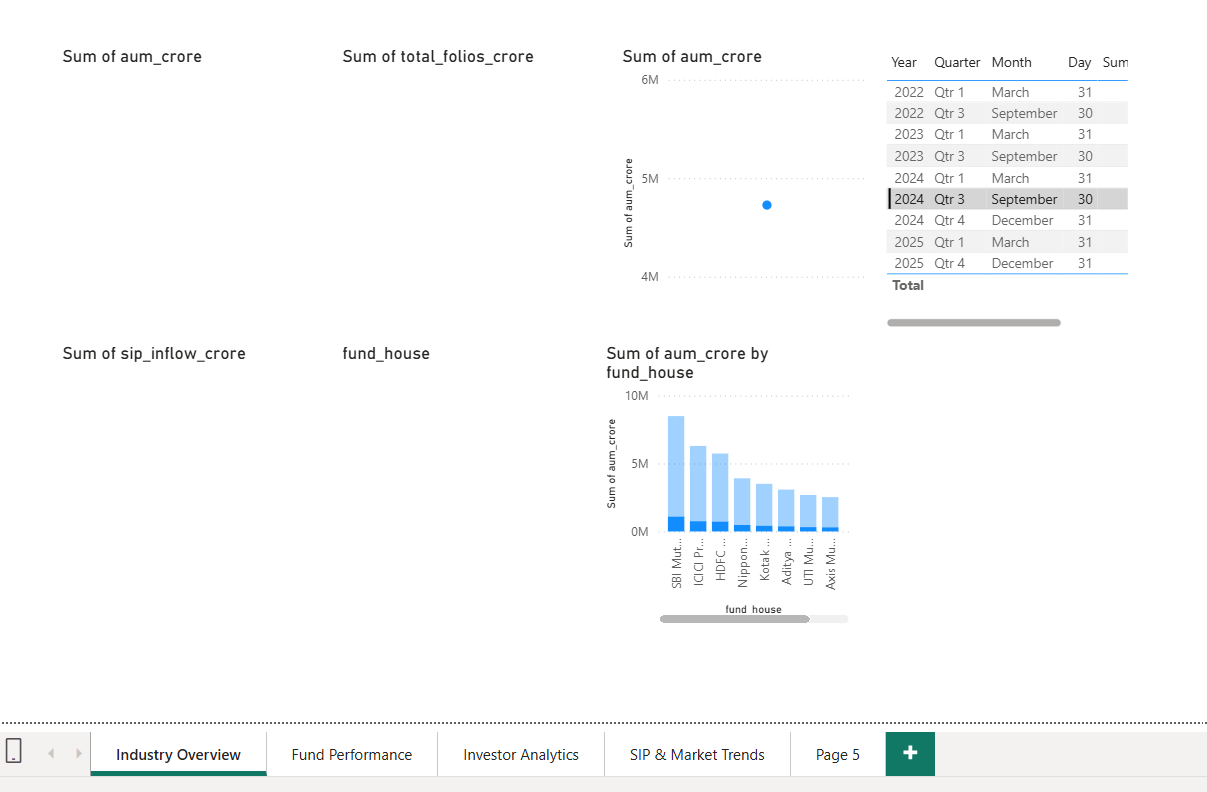

What the dashboard file says about the page in this screenshot:
{"tool":"powerbi","page":{"name":"Industry Overview","canvas":[1280,720],"ordinal":0},"visuals":[{"type":"kpi","fields":{"Indicator":["Sum(03_aum_by_fund_house.aum_crore)"]},"box":[90.6,59,247,279.9],"z":0},{"type":"kpi","fields":{"Indicator":["Sum(04_monthly_sip_inflows.sip_inflow_crore)"]},"box":[91,349,247,280],"z":1},{"type":"kpi","fields":{"Indicator":["Sum(06_industry_folio_count.total_folios_crore)"]},"box":[364.5,59,247,280],"z":2},{"type":"kpi","fields":{"TrendLine":["01_fund_master.fund_house"]},"box":[365,349,247,280],"z":3},{"type":"lineChart","fields":{"Y":["Sum(03_aum_by_fund_house.aum_crore)"]},"box":[638.5,59,247,280],"z":4},{"type":"barChart","fields":{"Category":["03_aum_by_fund_house.fund_house"]},"box":[639,349,247,280],"z":5},{"type":"clusteredColumnChart","fields":{"Y":["Sum(03_aum_by_fund_house.aum_crore)"],"Category":["03_aum_by_fund_house.fund_house"]},"box":[622,349,247,280],"z":6},{"type":"tableEx","fields":{"Values":["03_aum_by_fund_house.date.Variation.Date Hierarchy.Year","03_aum_by_fund_house.date.Variation.Date Hierarchy.Quarter","03_aum_by_fund_house.date.Variation.Date Hierarchy.Month","03_aum_by_fund_house.date.Variation.Date Hierarchy.Day","Sum(03_aum_by_fund_house.aum_crore)"]},"box":[895.5,59,247,280],"z":7}]}

Visuals, with their boxes on the page's 1280x720 design canvas (x1, y1, x2, y2). These are canvas units, not pixel positions in the 1207x792 screenshot, which may show the page scaled, cropped or inside an application window:
kpi - Sum(03_aum_by_fund_house.aum_crore): left=91, top=59, right=338, bottom=339
kpi - Sum(04_monthly_sip_inflows.sip_inflow_crore): left=91, top=349, right=338, bottom=629
kpi - Sum(06_industry_folio_count.total_folios_crore): left=364, top=59, right=612, bottom=339
kpi - 01_fund_master.fund_house: left=365, top=349, right=612, bottom=629
lineChart - Sum(03_aum_by_fund_house.aum_crore): left=638, top=59, right=886, bottom=339
barChart - 03_aum_by_fund_house.fund_house: left=639, top=349, right=886, bottom=629
clusteredColumnChart - Sum(03_aum_by_fund_house.aum_crore) x 03_aum_by_fund_house.fund_house: left=622, top=349, right=869, bottom=629
tableEx - 03_aum_by_fund_house.date.Variation.Date Hierarchy.Year x 03_aum_by_fund_house.date.Variation.Date Hierarchy.Quarter: left=896, top=59, right=1142, bottom=339
